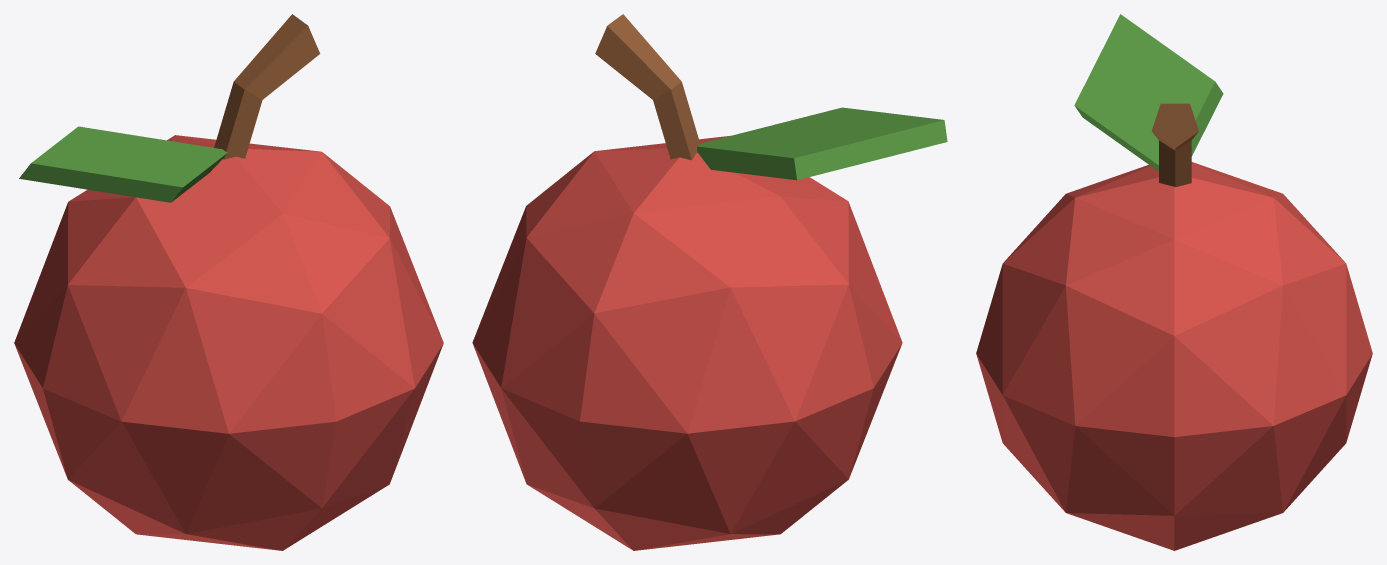
Rendered from apple.fbx.
3 views of the same model, side by side, from view 1: azimuth 30°, elevation 25°; view 2: azimuth 150°, elevation 25°; view 3: azimuth 270°, elevation 25° (orthographic). The views are drawn at different scales.
Visible parts, largest first — view 1: apple; view 2: apple; view 3: apple.
Part boxes in pixels (left/top/right/bottom): apple: left=14, top=14, right=443, bottom=550; apple: left=472, top=14, right=947, bottom=550; apple: left=976, top=14, right=1372, bottom=550.
Size of the model in its own units: 51.95 by 58.97 by 45.92.
Materials: 1 (1 with a texture image).
